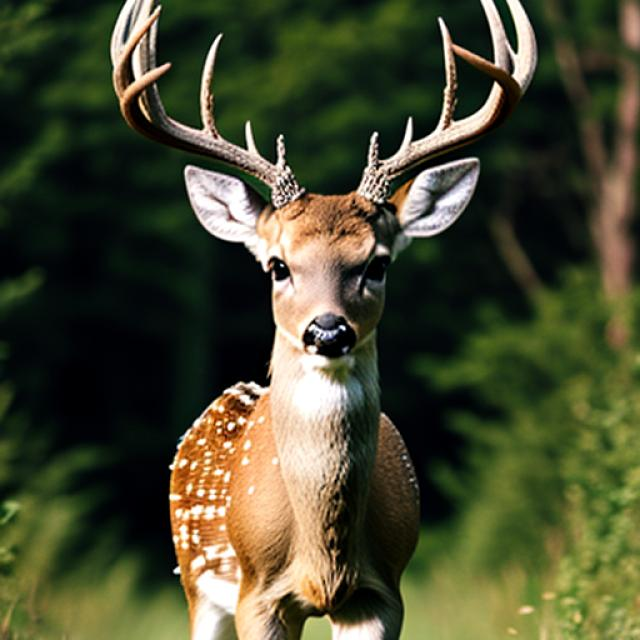deer: (78, 0, 506, 640)
